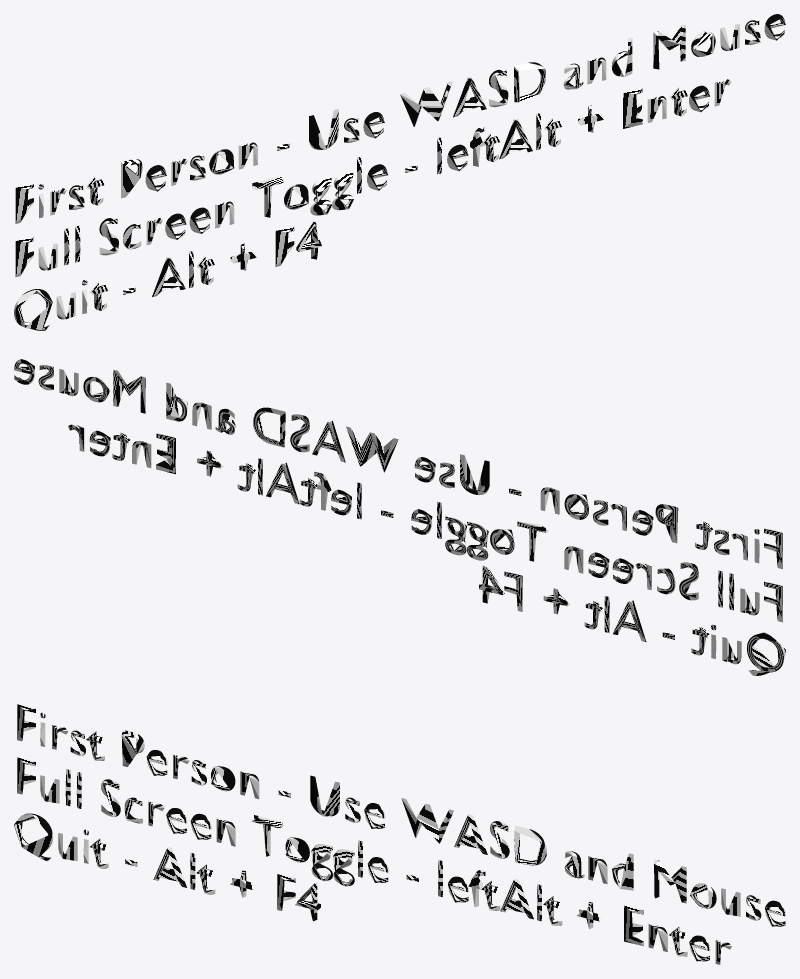
The model's file is fpp_test_text.obj.
3 views of the same model, one above another, from view 1: azimuth 30°, elevation 25°; view 2: azimuth 150°, elevation 25°; view 3: azimuth 330°, elevation 25° (orthographic).
Parts seen in each view (by area): view 1: Text; view 2: Text; view 3: Text.
Boxes of the visible parts, x1=… form: Text: x1=14, y1=14, x2=785, y2=330; Text: x1=14, y1=359, x2=785, y2=675; Text: x1=14, y1=704, x2=785, y2=964.
Size of the model in its own units: 15.16 by 2.83 by 0.0922.
